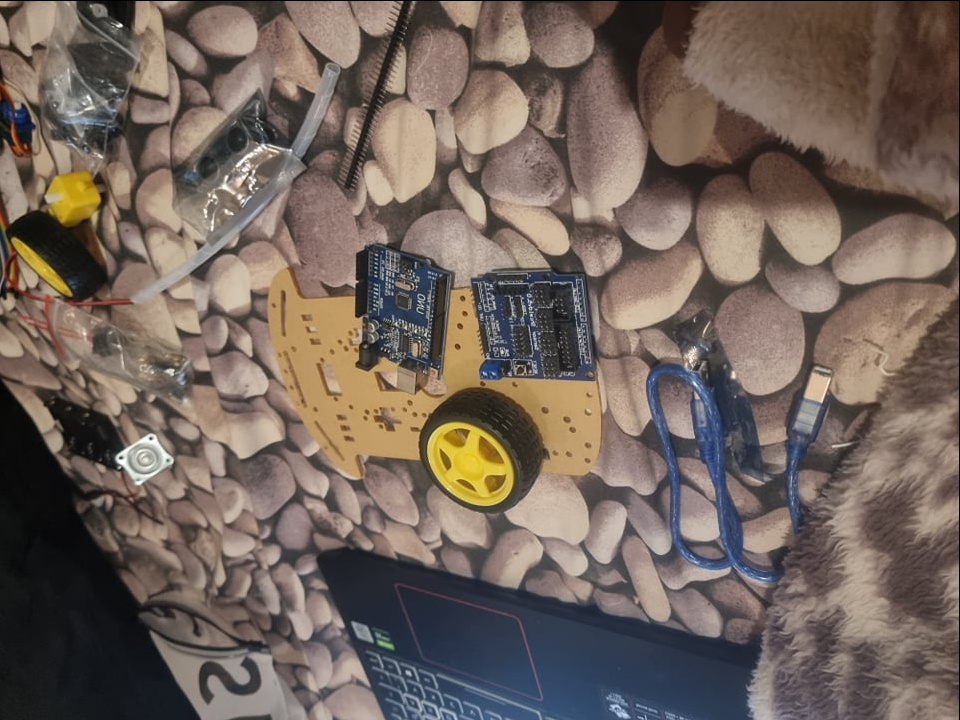5V EXPANSION: (473, 268, 599, 382)
BATTERY BOX: (39, 401, 125, 469)
SENSOR: (195, 111, 264, 188)
UNO R3: (353, 251, 455, 391)
